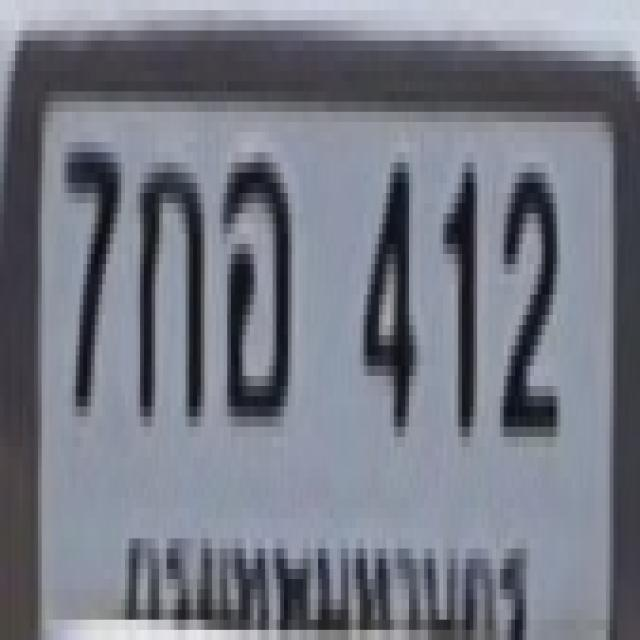1: (439, 147, 474, 422)
2: (496, 162, 553, 426)
4: (360, 147, 413, 422)
7: (61, 137, 118, 401)
A01: (132, 152, 200, 416)
A43: (220, 148, 288, 412)
BKK: (117, 517, 538, 640)
